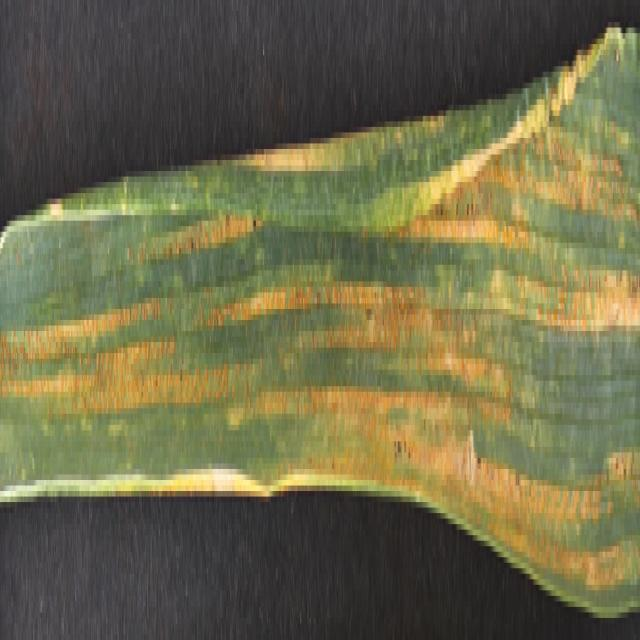leaf rust: (1, 5, 637, 562)
